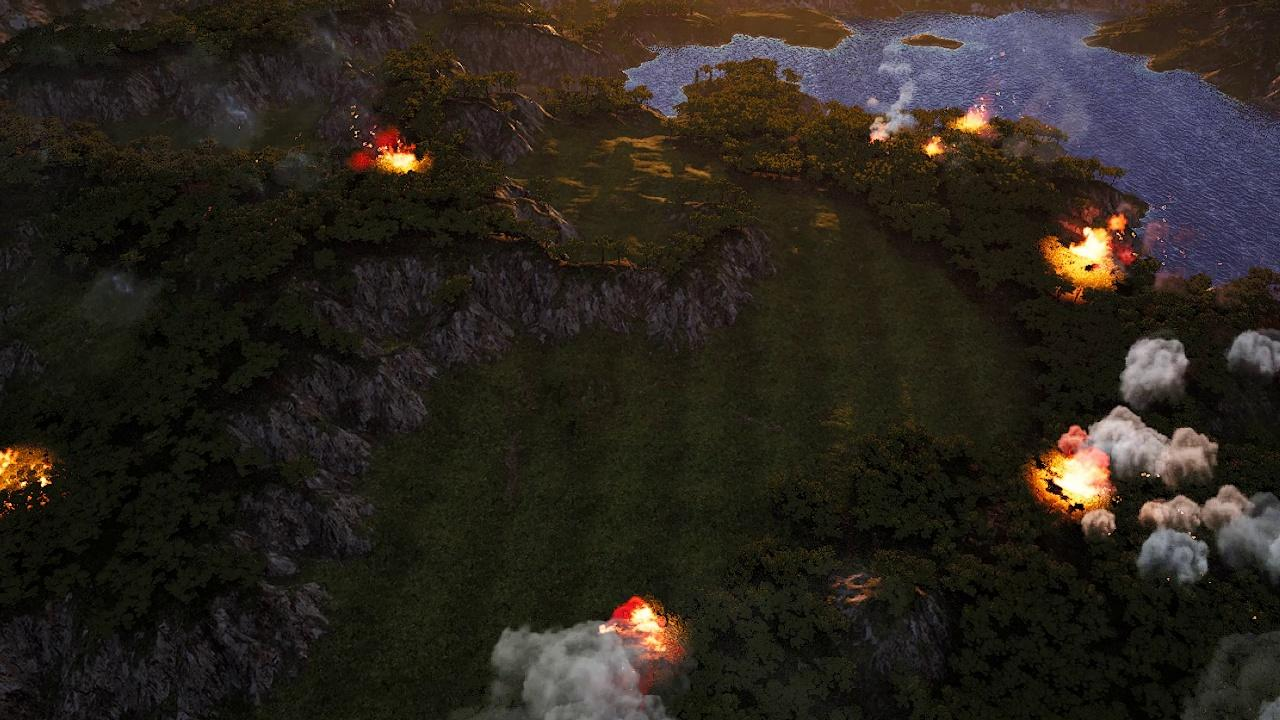fire: (605, 594, 680, 664), (1055, 217, 1129, 286), (1046, 444, 1113, 507), (0, 442, 53, 501), (358, 136, 422, 175), (962, 108, 990, 135), (865, 121, 893, 147), (921, 138, 944, 156)
smoke: (1060, 325, 1280, 587), (478, 617, 669, 720), (862, 38, 934, 131)
